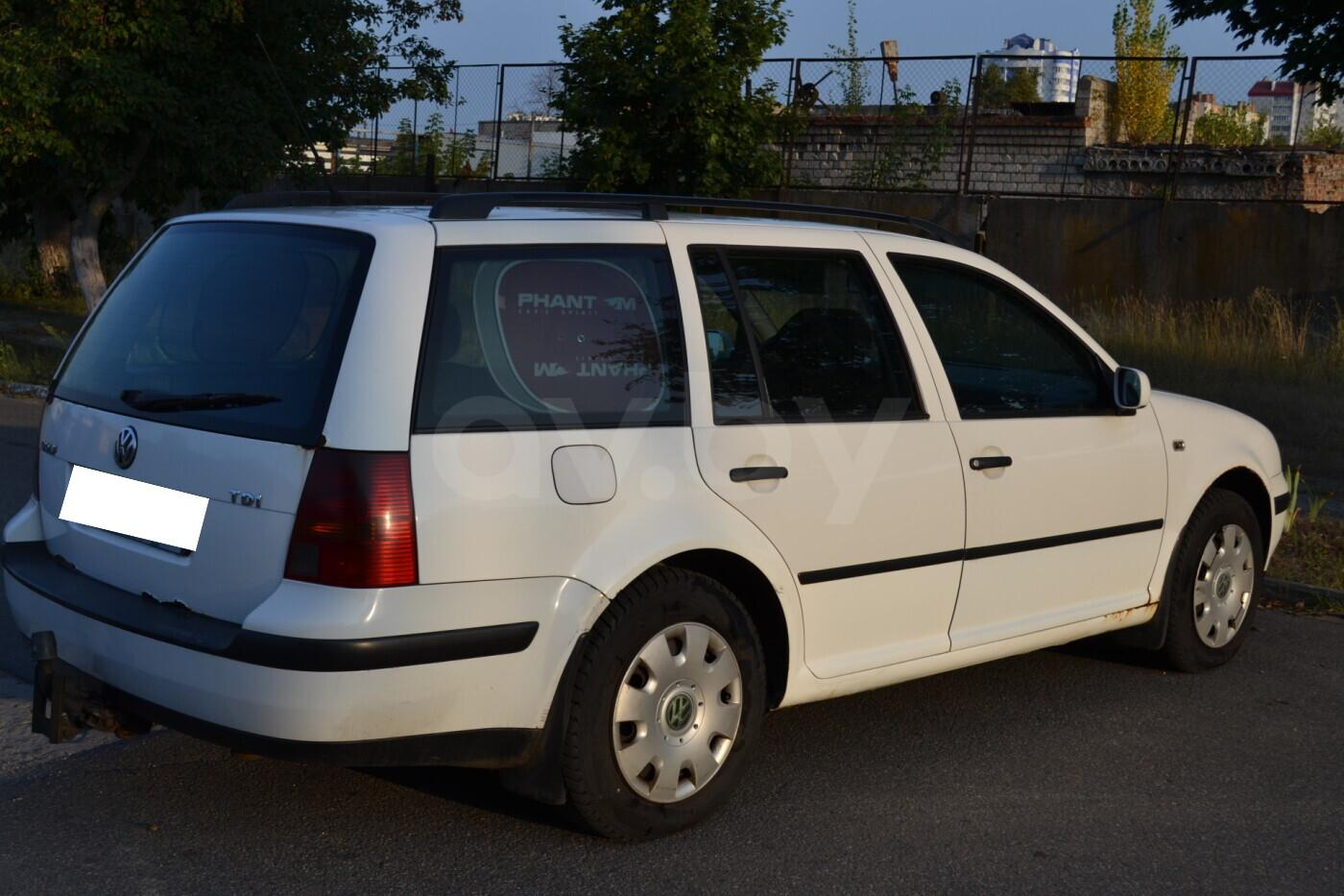Golf_1997-2006: (0, 199, 1311, 808)
